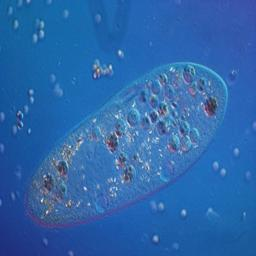Paramecium: (26, 62, 230, 228)
